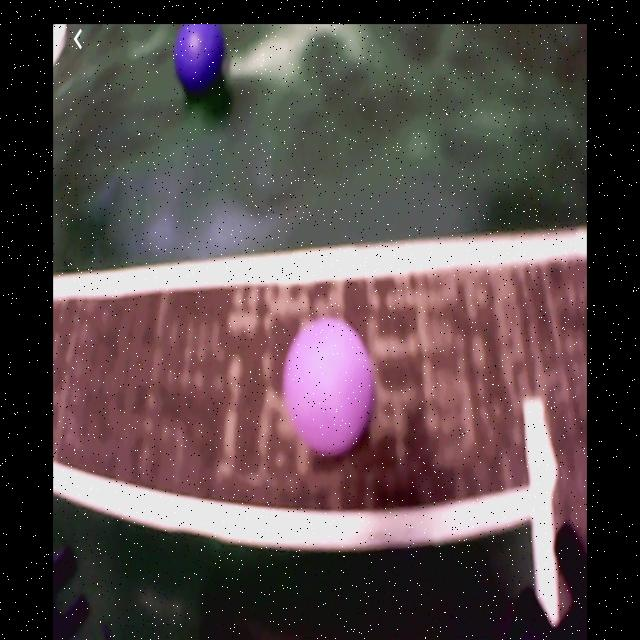ball: (283, 318, 372, 457), (173, 27, 227, 97)
